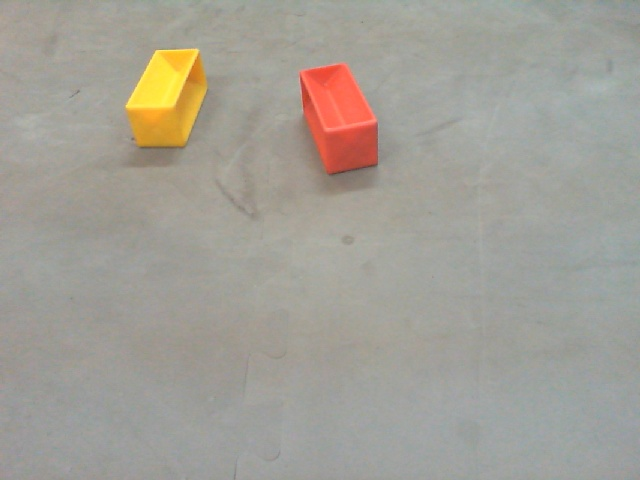RedSample: (298, 62, 381, 175)
YellowSample: (124, 45, 209, 150)
